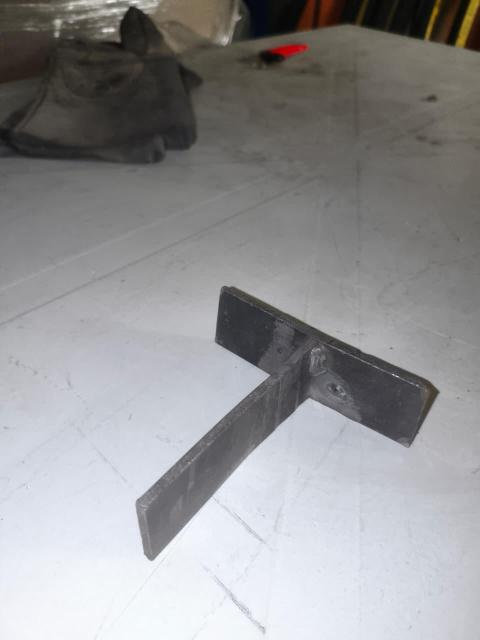Metal: (133, 282, 438, 557)
